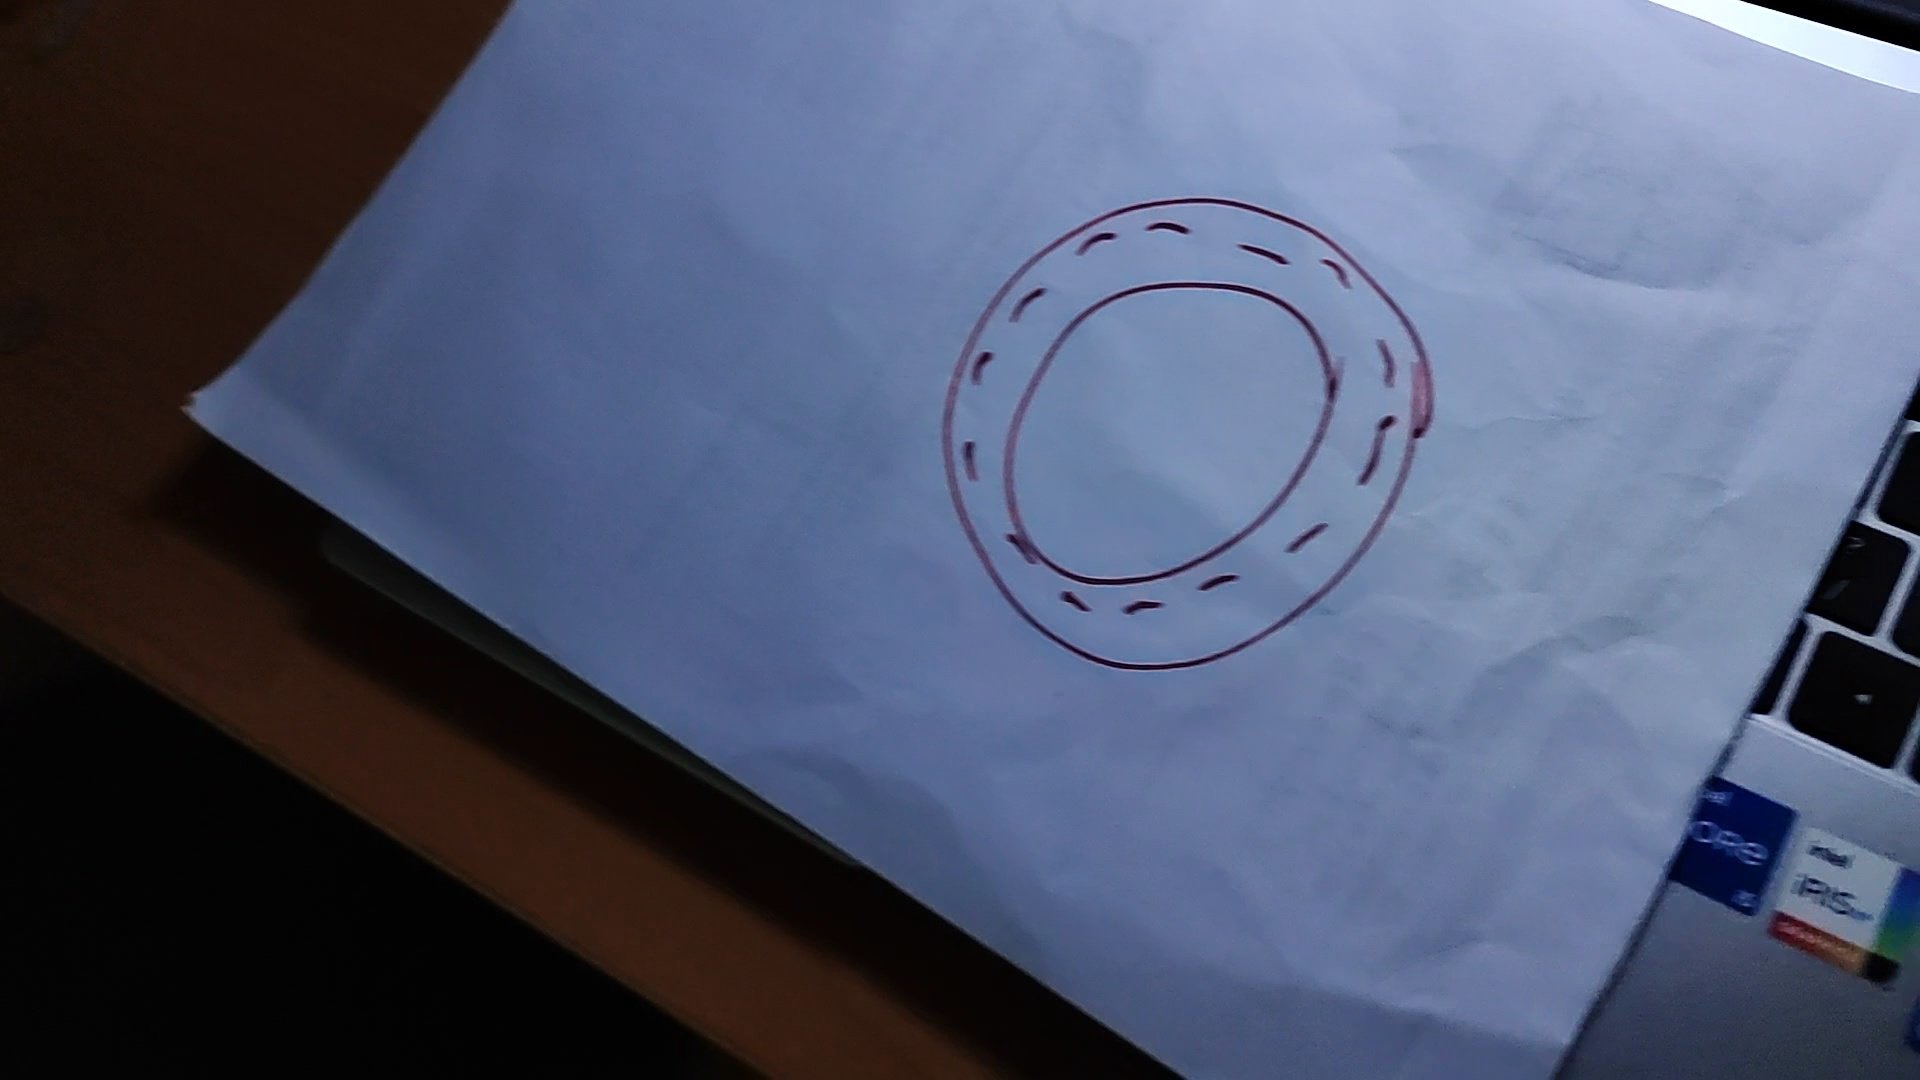circle: (942, 200, 1433, 670)
